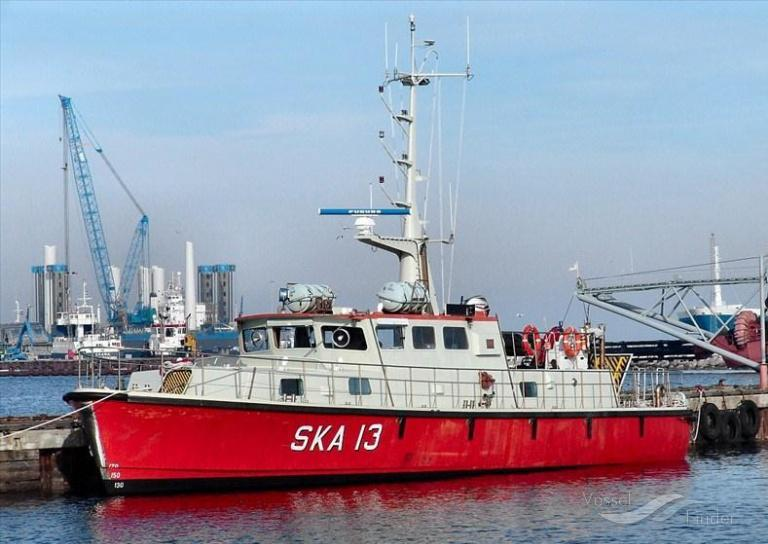OCR: (283, 415, 383, 462)
